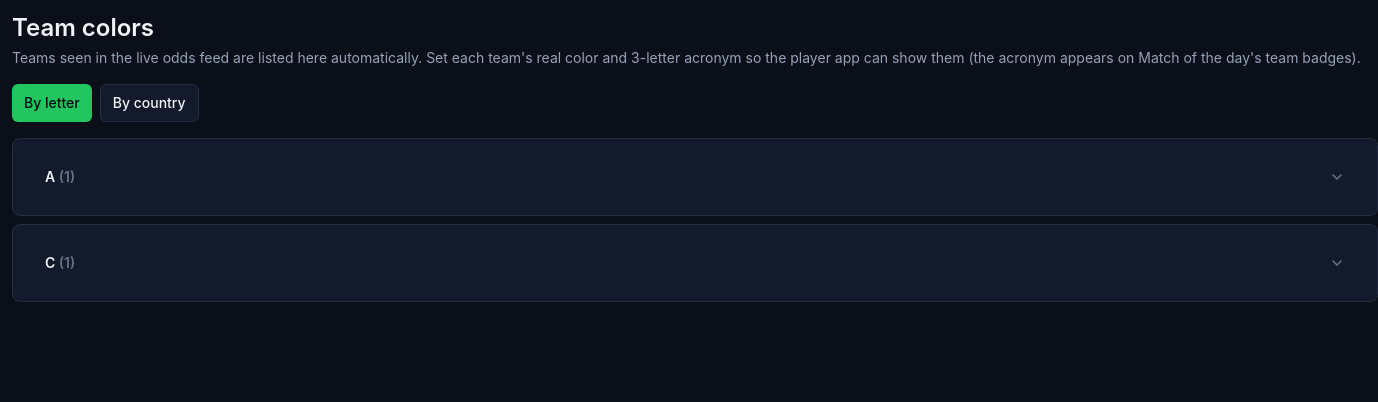
Test case: TeamColorsPage › syncs team names seen in the live odds feed, then lists the resulting rows
The width and height of the screenshot is (1378, 402).
Click the button "A (1)" at (50, 176), box top-left (29, 155), bottom-right (1361, 199)
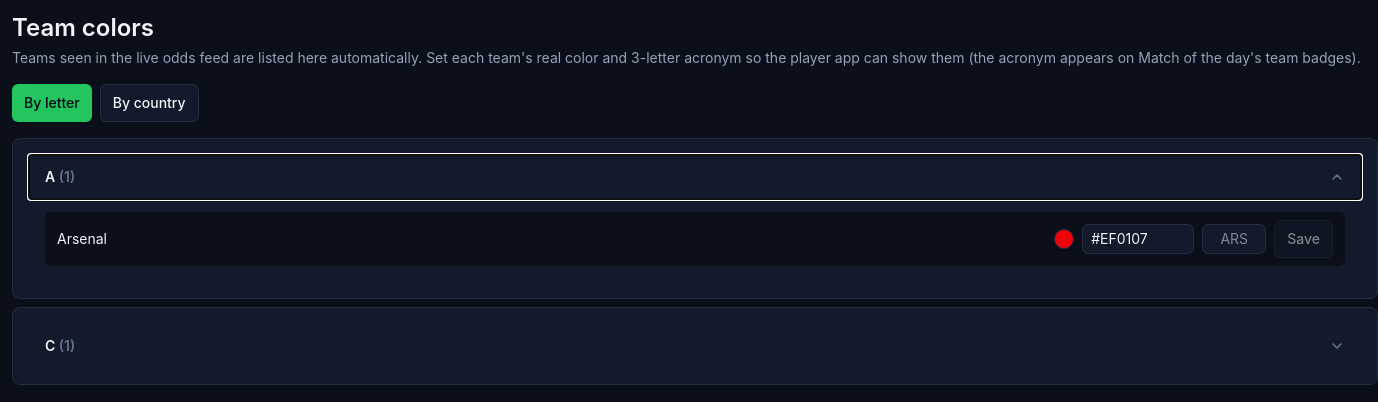
Check: the text "Arsenal" is shown, box top-left (57, 229), bottom-right (107, 249)
Check: the field named "Arsenal color hex" holds "#EF0107", box top-left (1082, 224), bottom-right (1194, 254)
Click the button "C (1)" at (50, 346), box top-left (29, 324), bottom-right (1361, 368)
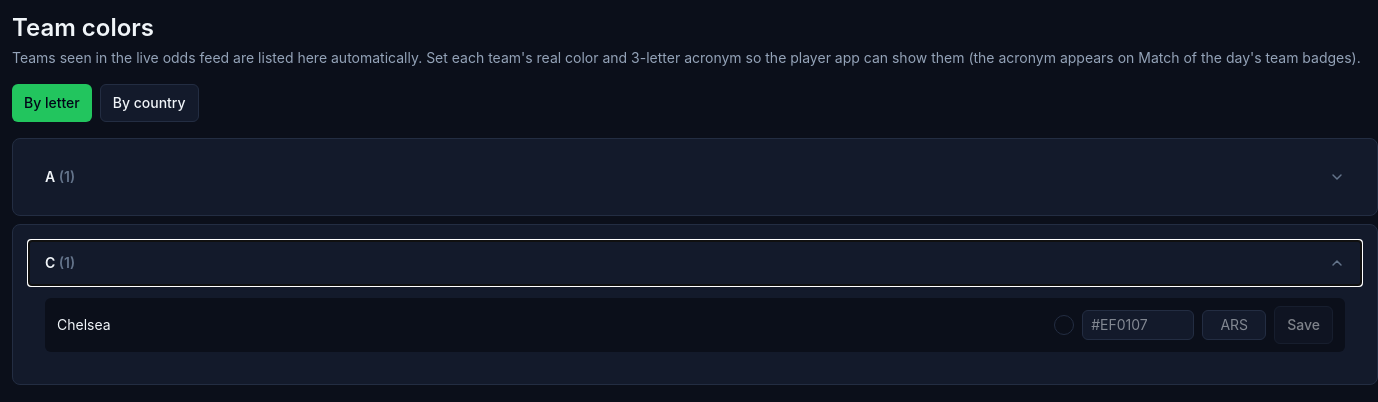
Check: the text "Chelsea" is shown, box top-left (57, 315), bottom-right (111, 335)
Check: the field named "Chelsea color hex" is empty, box top-left (1082, 310), bottom-right (1194, 340)
